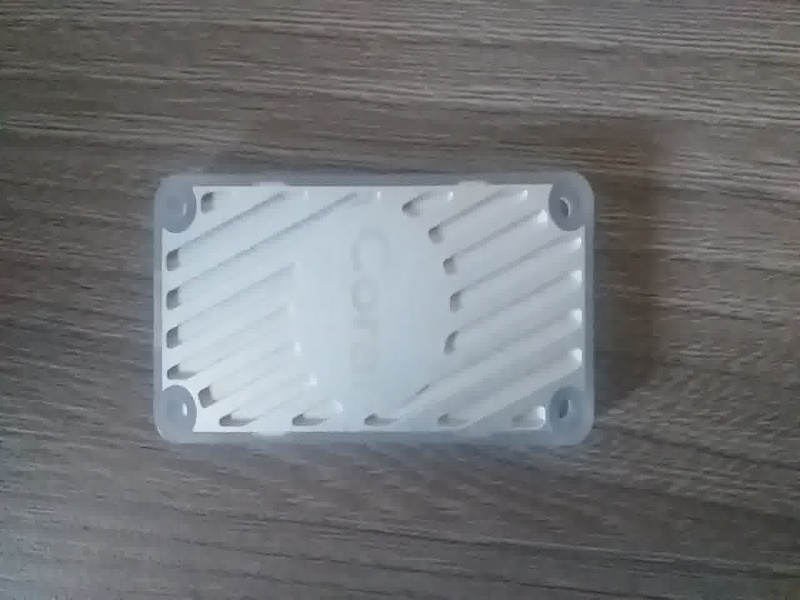coral: (141, 159, 615, 475)
